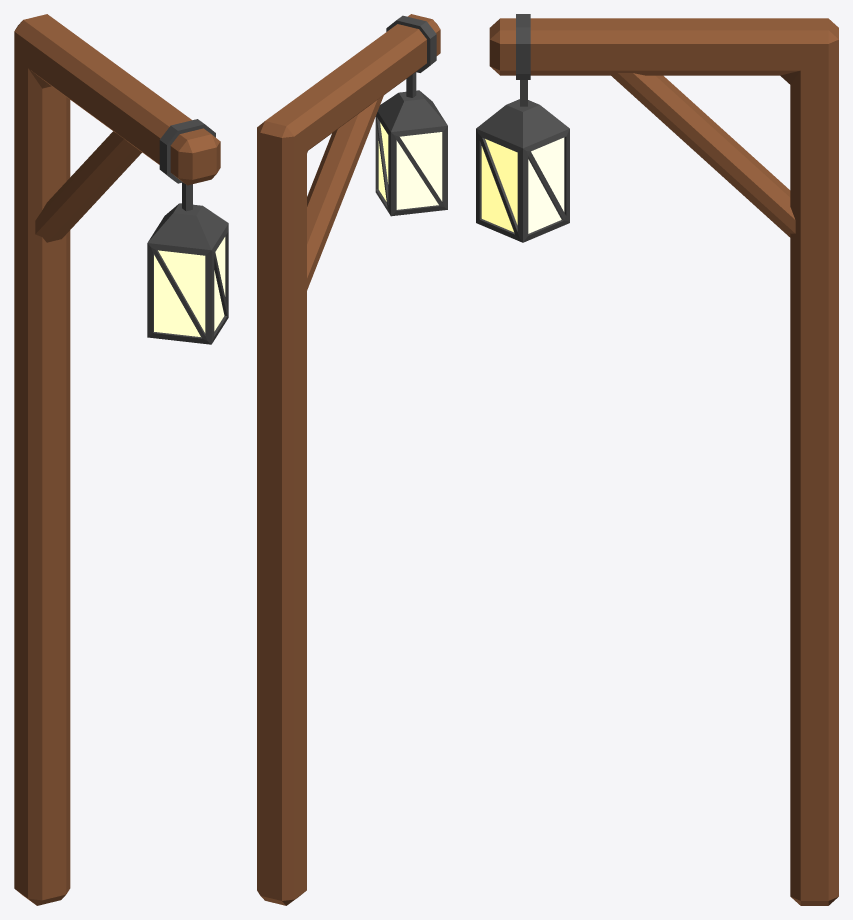
Rendered from SM_Lantern.fbx.
3 views of the same model, side by side, from view 1: azimuth 30°, elevation 25°; view 2: azimuth 150°, elevation 25°; view 3: azimuth 270°, elevation 25° (orthographic). The views are drawn at different scales.
Visible parts, largest first — view 1: SM_Lantern; view 2: SM_Lantern; view 3: SM_Lantern.
Boxes of the visible parts, x1=… form: SM_Lantern: x1=14, y1=14, x2=228, y2=905; SM_Lantern: x1=257, y1=14, x2=447, y2=905; SM_Lantern: x1=476, y1=14, x2=838, y2=905.
Bounding box in the file's own units: 28.11 × 291 × 109.
